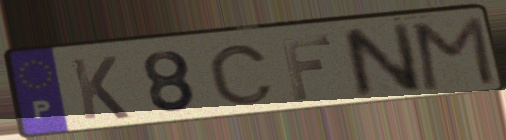8: (141, 49, 200, 115)
C: (205, 43, 277, 108)
F: (278, 33, 335, 103)
K: (67, 54, 133, 123)
M: (411, 13, 499, 94)
N: (337, 19, 426, 102)
